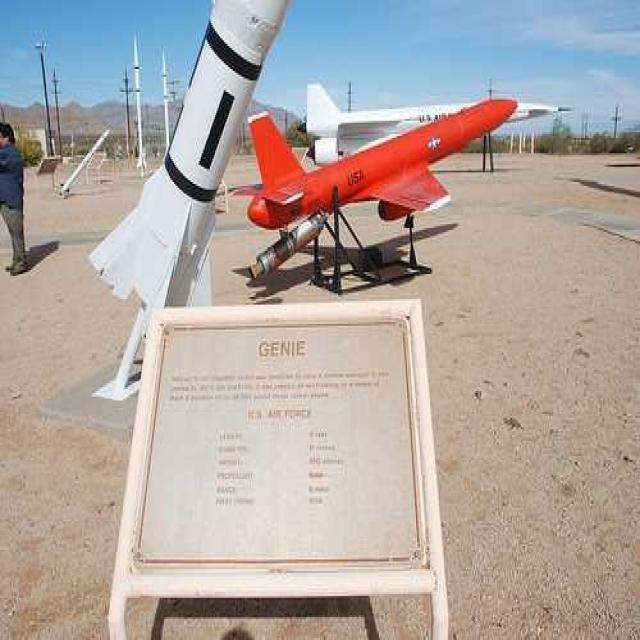missile: (246, 88, 516, 286), (294, 96, 579, 161), (58, 123, 115, 202), (131, 26, 148, 170), (161, 48, 172, 150)
